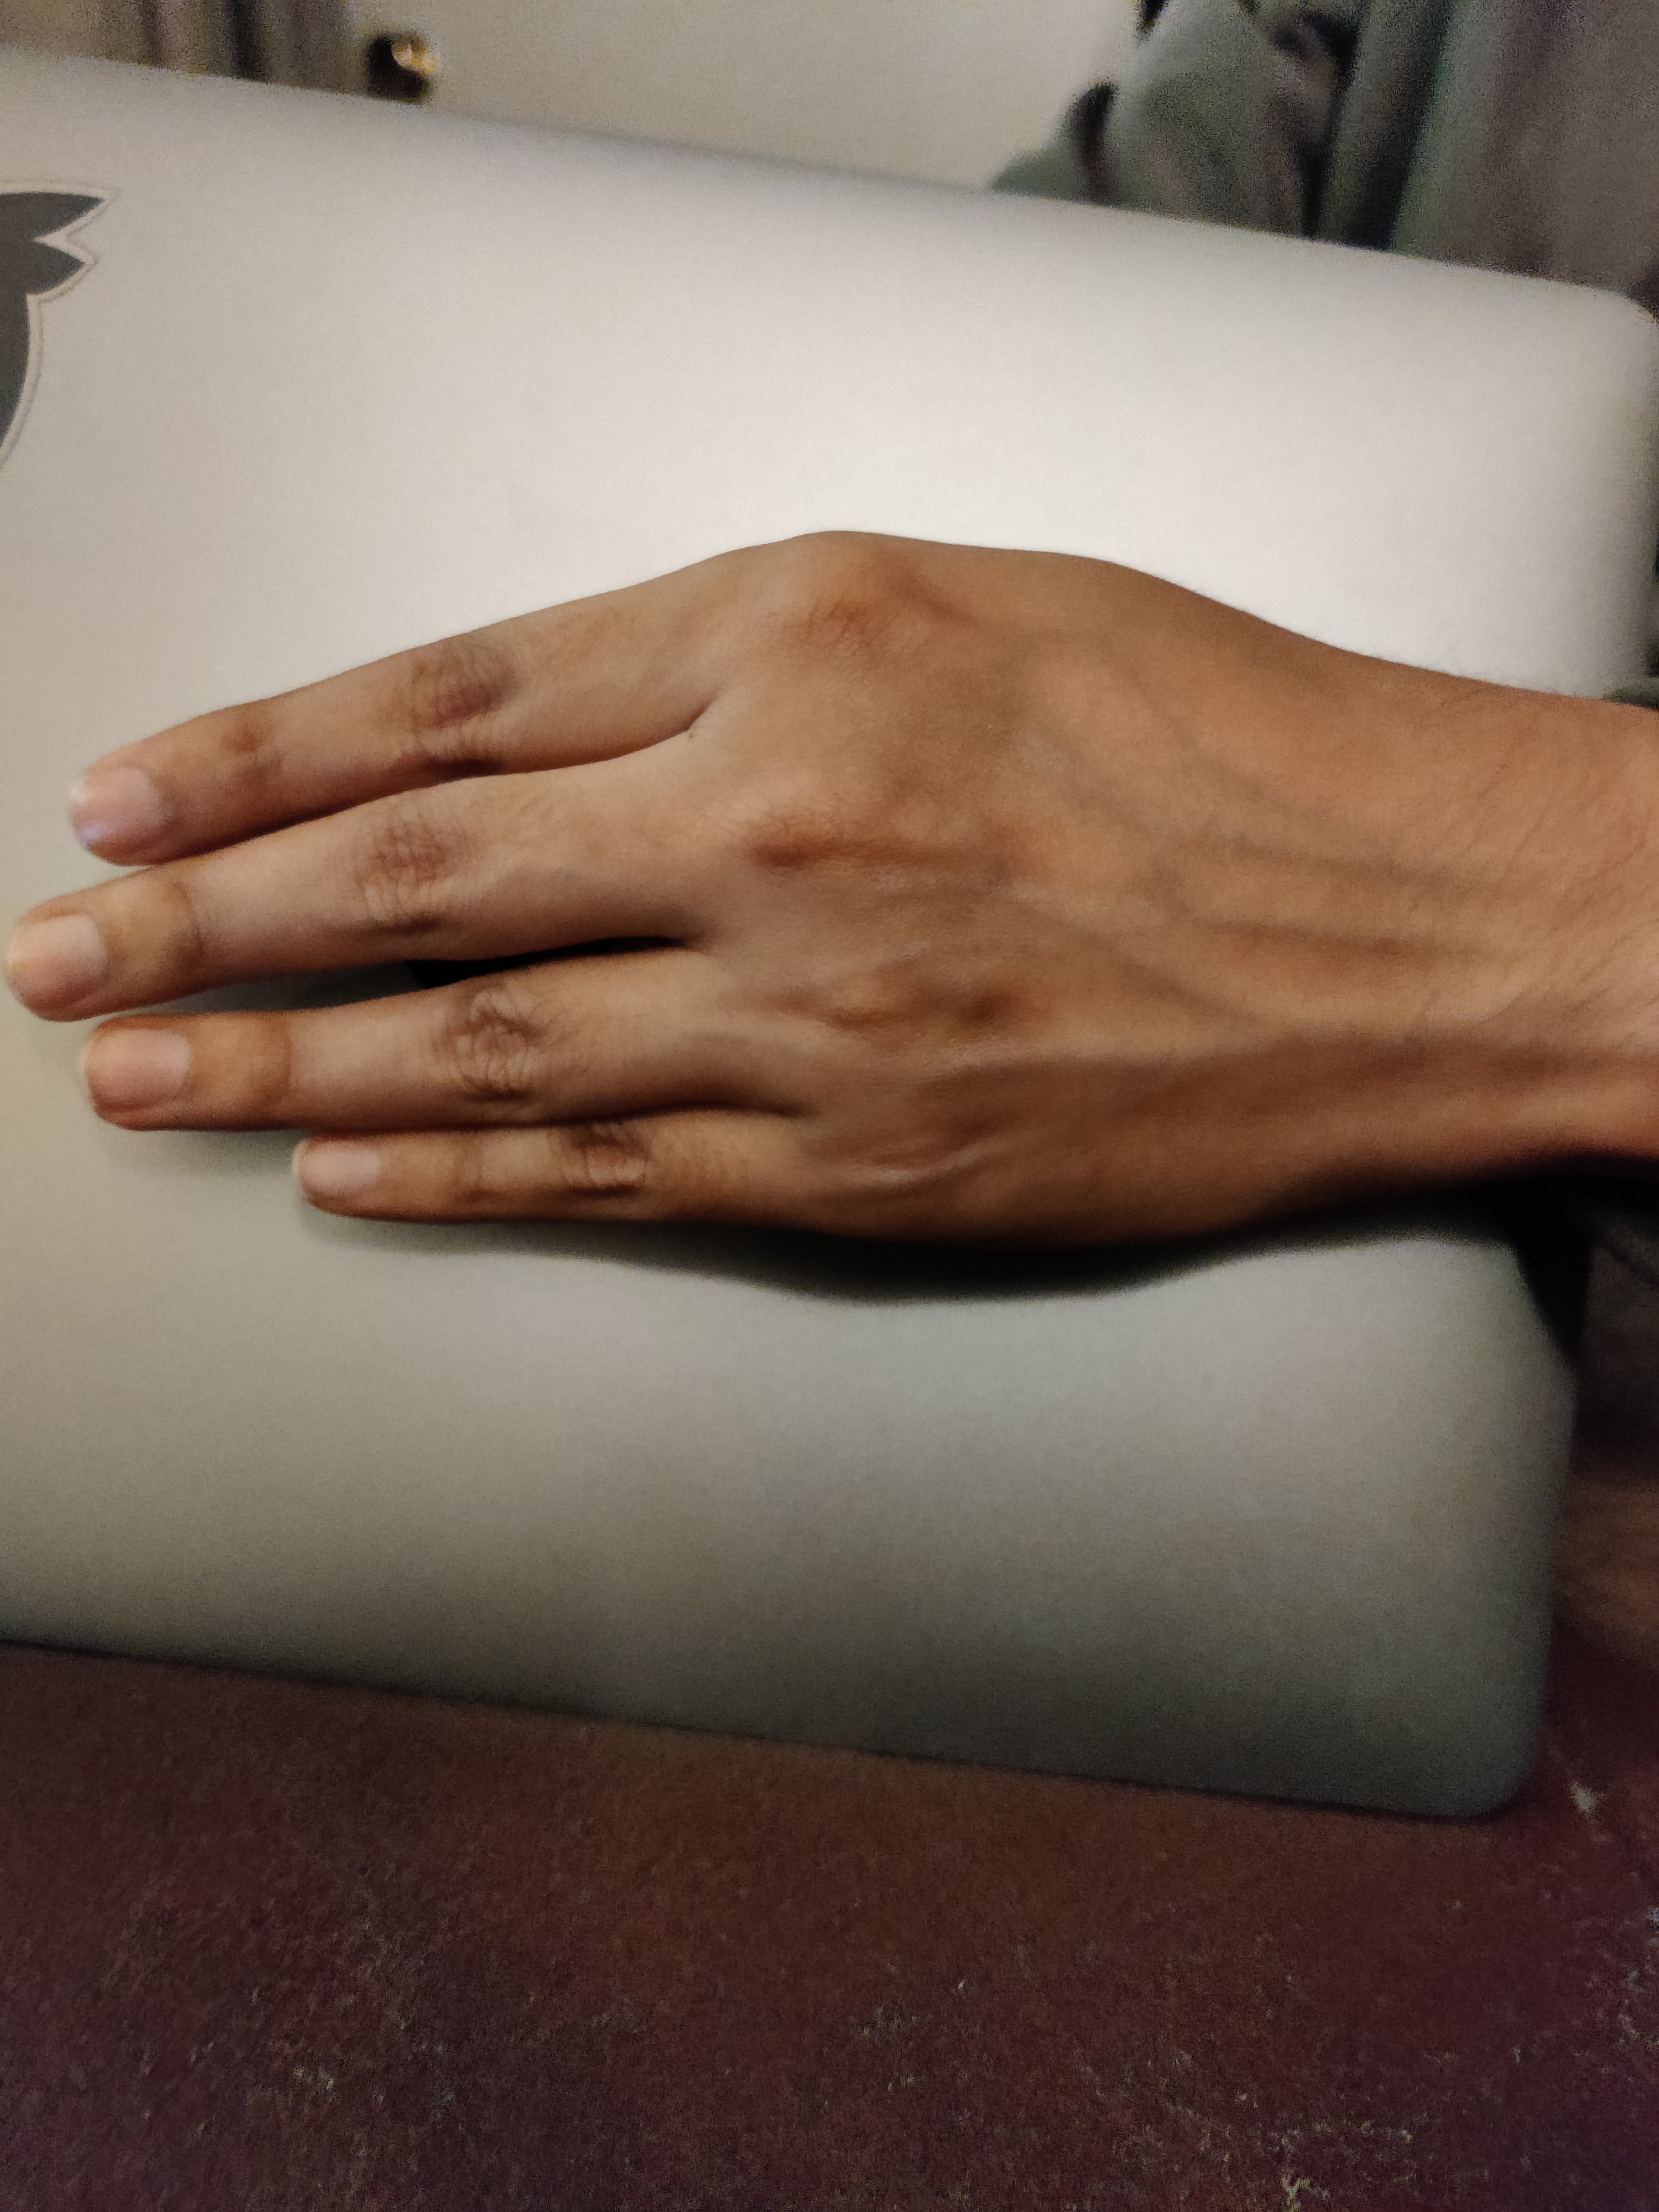right: (33, 460, 1577, 1479)
